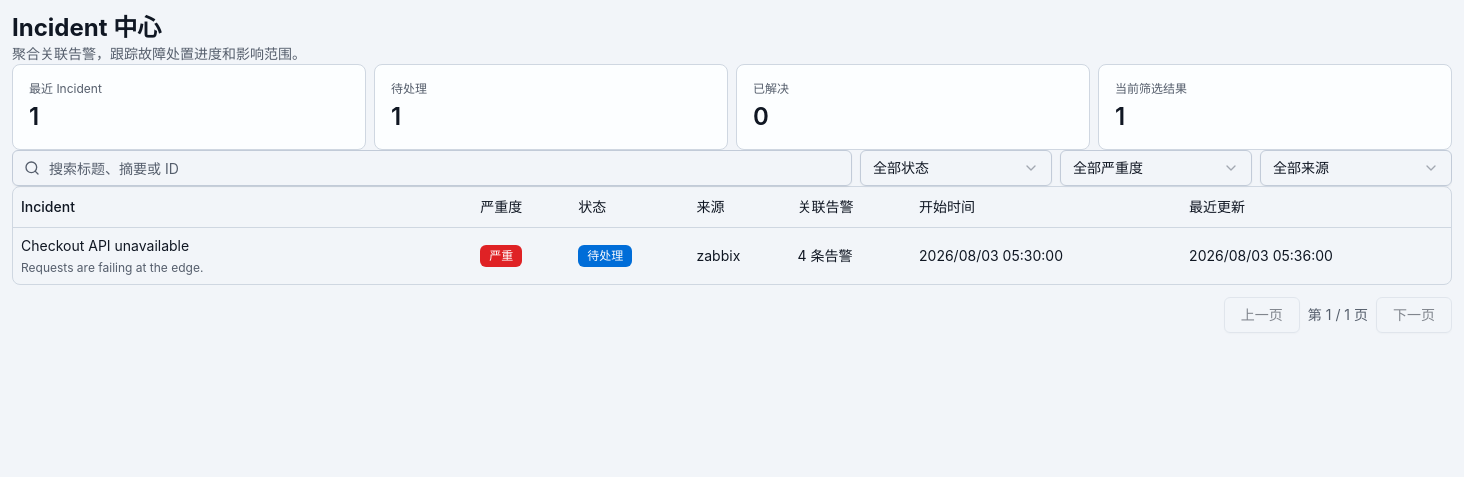
IncidentsPage › offers disaster as a severity filter
The image size is (1464, 477).
Click the dropdown labelled "全部严重度" at (1156, 168), box [1060,150,1252,186]
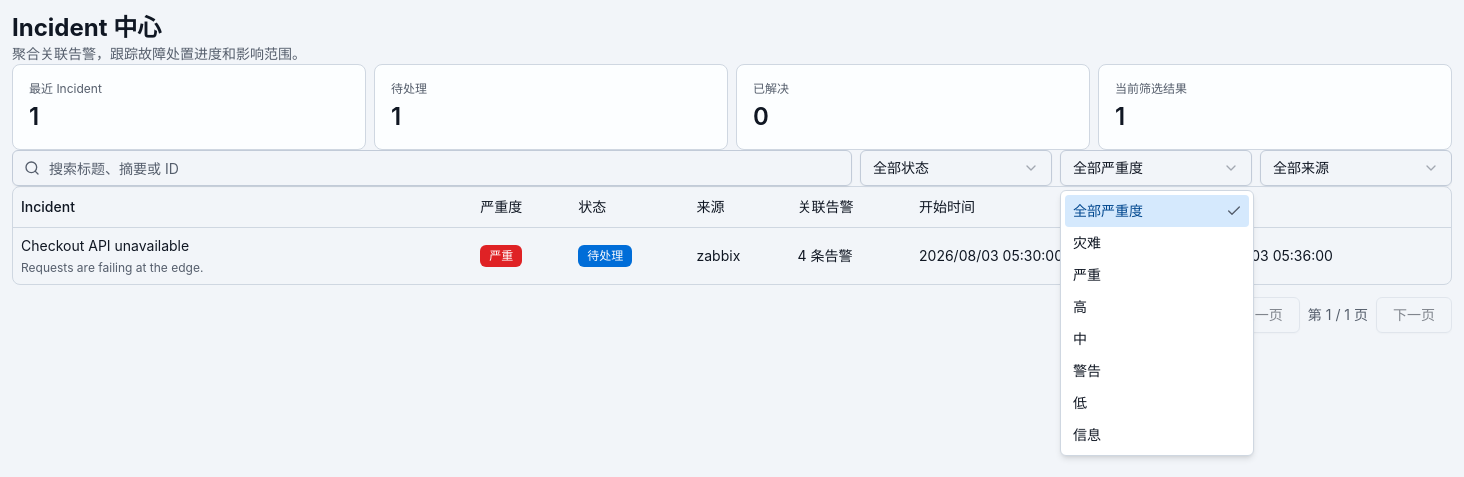
Check: the option "灾难" is shown, box [1073,234,1101,251]
